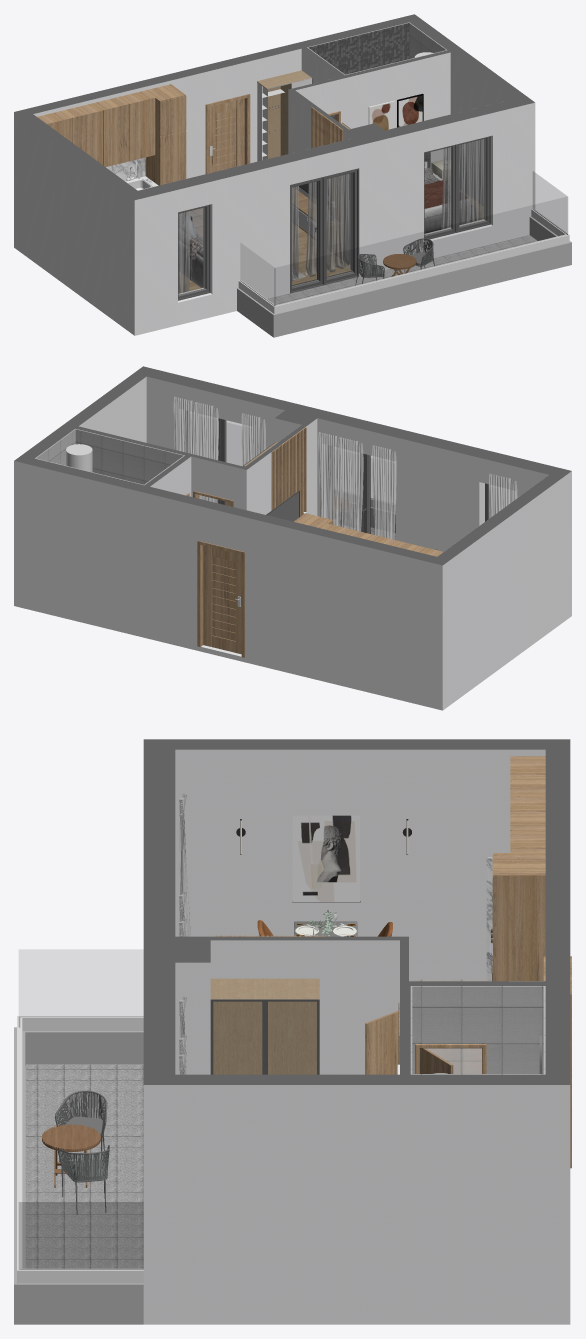
Rendered from T4_TIP1.glb.
3 renders of one model, top to bottom at view 1: azimuth 30°, elevation 25°; view 2: azimuth 150°, elevation 25°; view 3: azimuth 270°, elevation 25°, orthographic. The views are drawn at different scales.
Parts seen in each view (by area): view 1: Geom3D (×34), Geom3D_Plane02 (×6), Geom3D_; view 2: Geom3D (×13), Geom3D_Plane02 (×7), Geom3D_; view 3: Geom3D (×16), Geom3D_ (×2), Geom3D_White Door, Geom3D_Plane02.
Boxes of the visible parts, x1,y1,x2,y2 form: Geom3D (×34): (14,14,571,337); Geom3D_Plane02 (×6): (178,139,483,293); Geom3D_: (383,254,416,268); Geom3D (×13): (14,366,571,710); Geom3D_Plane02 (×7): (173,396,517,539); Geom3D_: (66,444,92,471); Geom3D (×16): (14,739,570,1324); Geom3D_ (×2): (42,1124,100,1182); Geom3D_White Door: (365,1010,398,1074); Geom3D_Plane02: (179,793,190,936).
Size of the model in its own units: 9.28 by 3 by 6.33.
Materials: 403 (342 with a texture image).
